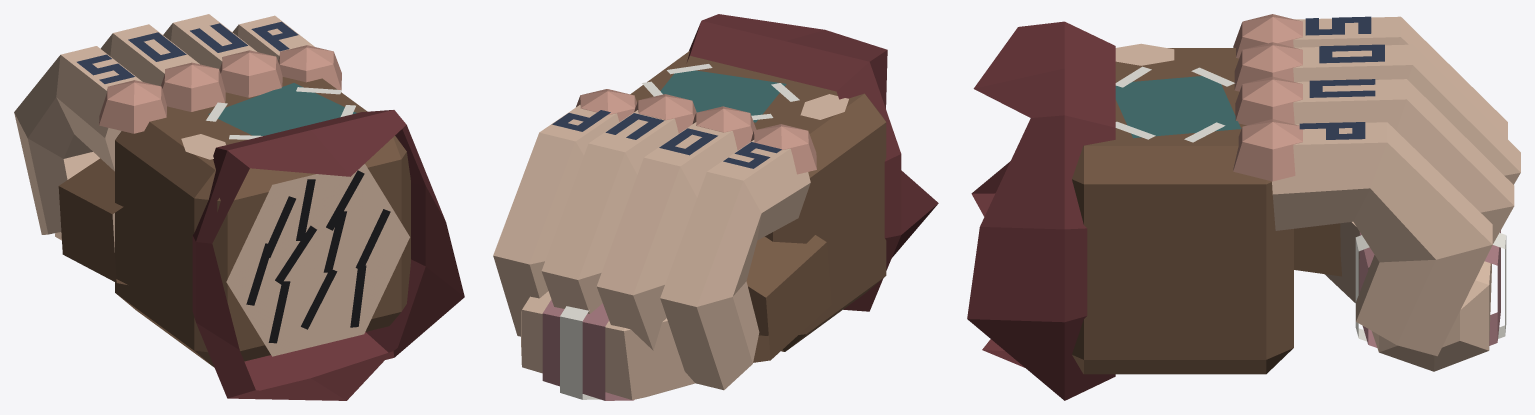
Rendered from hand.glb.
The picture shows the model from 3 angles, left to right: view 1: azimuth 30°, elevation 25°; view 2: azimuth 150°, elevation 25°; view 3: azimuth 270°, elevation 25°; orthographic projection. The views are drawn at different scales.
Visible parts, largest first — view 1: Prop; view 2: Prop; view 3: Prop.
Part boxes in pixels (box(x1,y1,x2,y2)): Prop: box(14, 14, 464, 400); Prop: box(493, 14, 938, 400); Prop: box(967, 14, 1520, 400).
Bounding box in the file's own units: 0.14 × 0.14 × 0.24.
